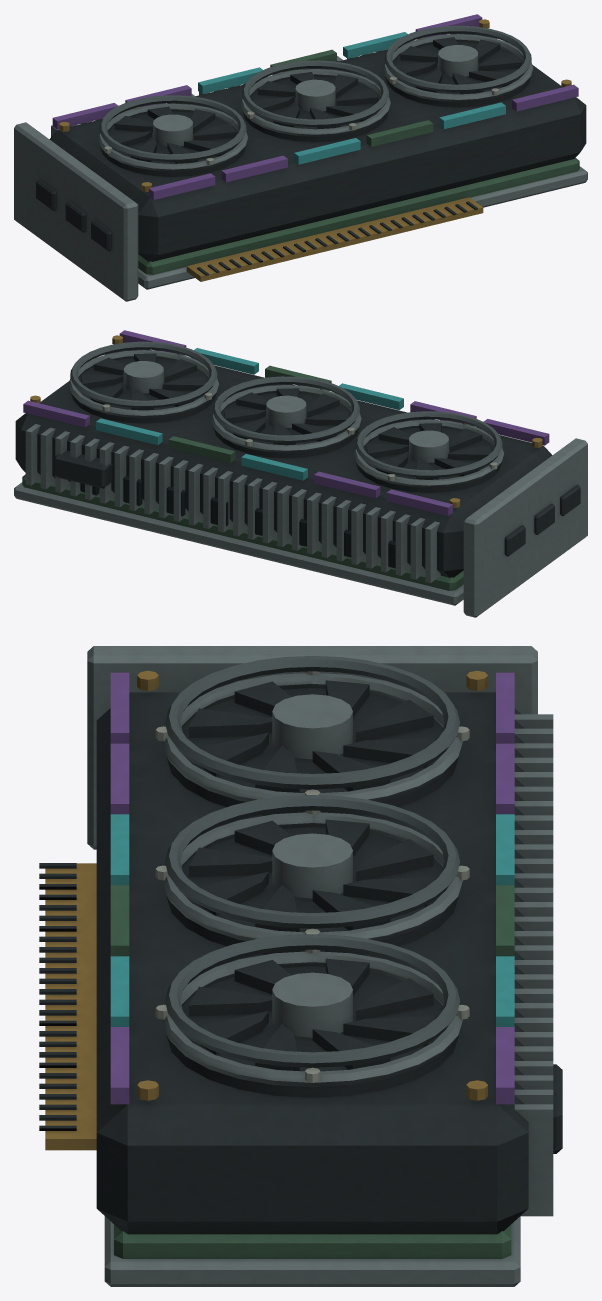
File: graphics_card.glb
3 renders of one model, top to bottom at view 1: azimuth 30°, elevation 25°; view 2: azimuth 150°, elevation 25°; view 3: azimuth 270°, elevation 25°, orthographic. The views are drawn at different scales.
Parts seen in each view (by area): view 1: graphics_card; view 2: graphics_card; view 3: graphics_card.
Part boxes in pixels (x1=…): graphics_card: x1=14, y1=14, x2=587, y2=301; graphics_card: x1=14, y1=330, x2=587, y2=617; graphics_card: x1=39, y1=646, x2=562, y2=1286.
Bounding box in the file's own units: 0.354 × 0.081 × 0.1685.
1 material, 1 textured.
